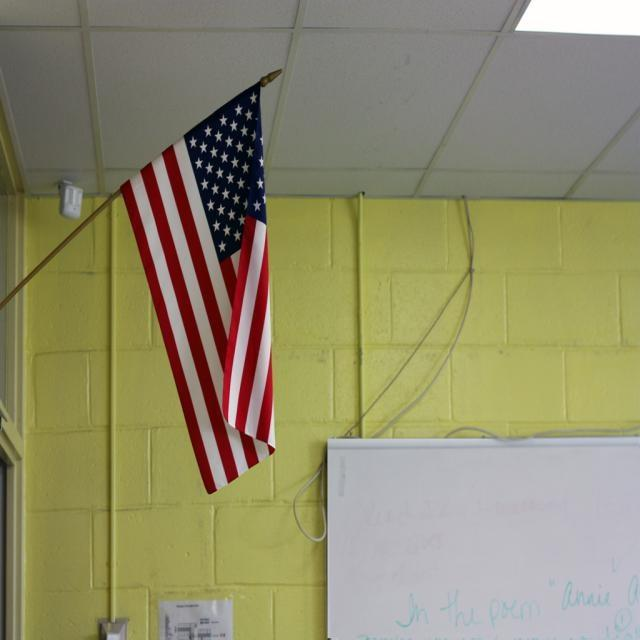Whiteboard: (325, 436, 639, 639)
